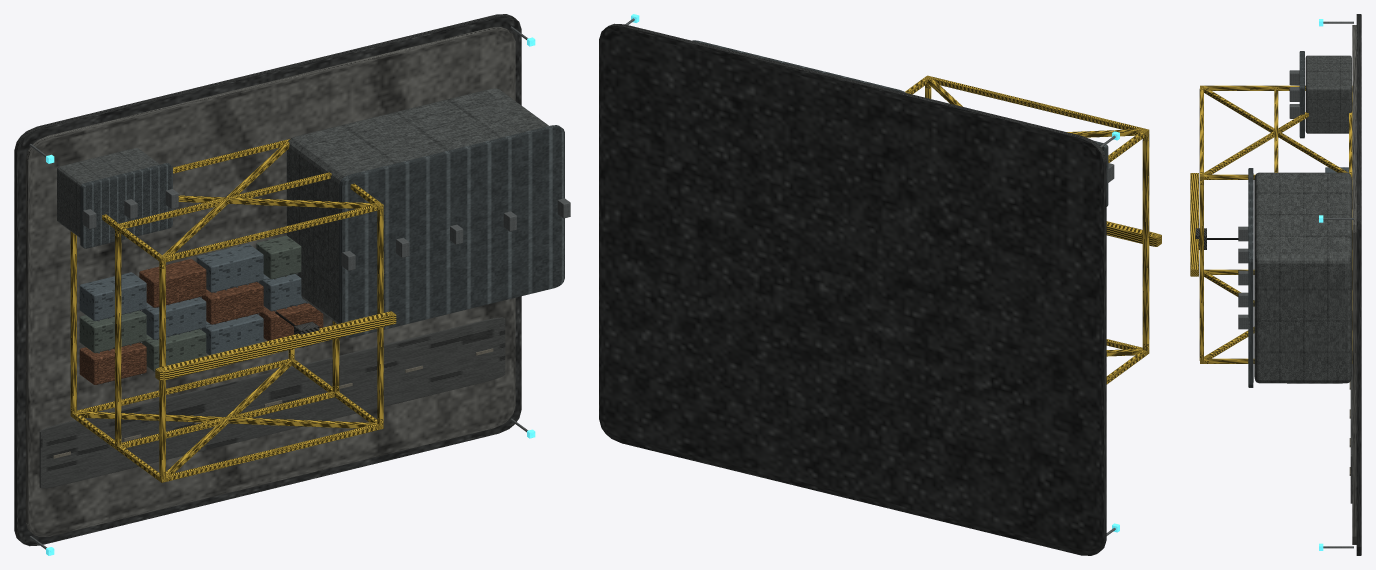
Rendered from b-08-logistics-hub-lod0.glb.
3 renders of one model, left to right at view 1: azimuth 30°, elevation 25°; view 2: azimuth 150°, elevation 25°; view 3: azimuth 270°, elevation 25°, orthographic. The views are drawn at different scales.
Parts seen in each view (by area): view 1: foundation_inner_pad, logistics_warehouse_roof, truck_lane_road, logistics_warehouse_main_hall, foundation, weigh_station_roof, main_gantry_crane_bridge, weigh_station_main_hall, freight_2_2_container, freight_2_0_container, freight_2_1_container, freight_0_0_container (+24 smaller); view 2: foundation, main_gantry_crane_beam_y_2_w, main_gantry_crane_beam_x_2_n, main_gantry_crane_bridge; view 3: logistics_warehouse_main_hall, weigh_station_main_hall, foundation, foundation_inner_pad, logistics_warehouse_roof, main_gantry_crane_brace_b_3.95, main_gantry_crane_beam_y_2_e, main_gantry_crane_bridge, main_gantry_crane_brace_a_3.95, main_gantry_crane_column_w_n, weigh_station_roof, main_gantry_crane_beam_x_2_n (+7 smaller).
Part boxes in pixels (box(x1,y1,x2,y2)): foundation_inner_pad: box(25, 27, 515, 536); logistics_warehouse_roof: box(339, 125, 564, 337); truck_lane_road: box(39, 317, 505, 488); logistics_warehouse_main_hall: box(286, 88, 548, 323); foundation: box(14, 14, 521, 546); weigh_station_roof: box(80, 163, 172, 248); main_gantry_crane_bridge: box(155, 311, 396, 380); weigh_station_main_hall: box(57, 148, 159, 237); freight_2_2_container: box(196, 244, 263, 292); freight_2_0_container: box(79, 272, 146, 321); freight_2_1_container: box(139, 259, 206, 307); freight_0_0_container: box(79, 342, 146, 384); foundation: box(599, 23, 1106, 555); main_gantry_crane_beam_y_2_w: box(1142, 128, 1149, 350); main_gantry_crane_beam_x_2_n: box(929, 76, 1149, 134); main_gantry_crane_bridge: box(1106, 221, 1161, 246); logistics_warehouse_main_hall: box(1254, 172, 1351, 383); weigh_station_main_hall: box(1305, 55, 1351, 133); foundation: box(1356, 14, 1361, 555); foundation_inner_pad: box(1352, 25, 1356, 544); logistics_warehouse_roof: box(1248, 168, 1253, 387); main_gantry_crane_brace_b_3.95: box(1203, 87, 1348, 172); main_gantry_crane_beam_y_2_e: box(1199, 174, 1203, 360); main_gantry_crane_bridge: box(1190, 173, 1198, 276); main_gantry_crane_brace_a_3.95: box(1204, 112, 1308, 174); main_gantry_crane_column_w_n: box(1203, 85, 1305, 90); weigh_station_roof: box(1299, 51, 1304, 138); main_gantry_crane_beam_x_2_n: box(1199, 87, 1203, 179).
Size of what is drawn, in the model's own units: 19 by 15 by 6.67.
Materials: 14 (14 with a texture image).
